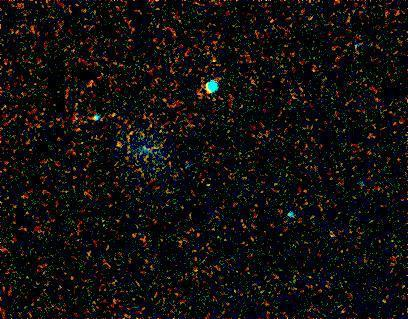star: (199, 49, 229, 79)
